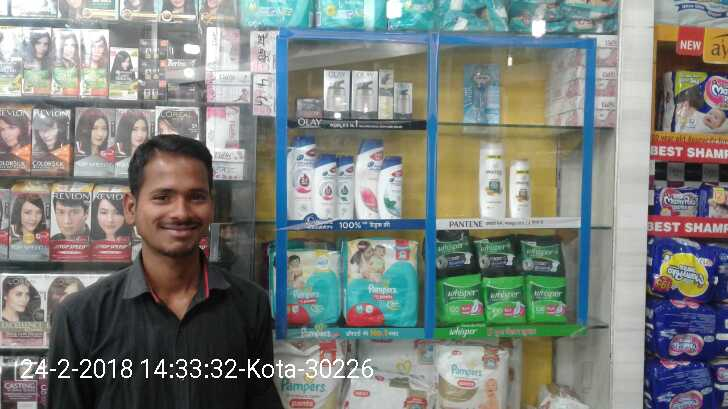venus: (462, 62, 500, 130)
